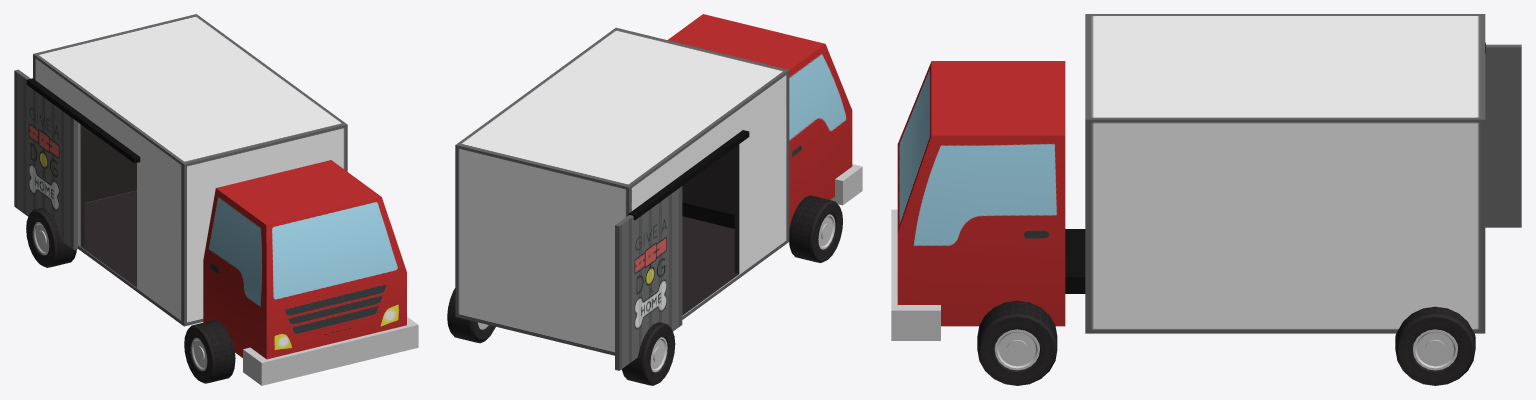
File: Truck-CloseDoor.fbx
The picture shows the model from 3 angles, left to right: view 1: azimuth 30°, elevation 25°; view 2: azimuth 150°, elevation 25°; view 3: azimuth 270°, elevation 25°; orthographic projection. The views are drawn at different scales.
Parts seen in each view (by area): view 1: pCube1, pCube4, pCube2, pCube6, pCylinder4, pCylinder8, pCube3, pCylinder3 (×2); view 2: pCube1, pCube4, pCube2, pCylinder4 (×2), pCylinder8, pCube3, pCylinder3 (×2), pCube6, pCube5; view 3: pCube1, pCube4, pCylinder4 (×2), pCube2, pCube6, pCylinder3, pCylinder7, pCube5.
Boxes of the visible parts, left/top/right/bottom form: pCube1: left=33, top=14, right=347, bottom=326; pCube4: left=203, top=160, right=406, bottom=359; pCube2: left=14, top=69, right=77, bottom=249; pCube6: left=243, top=316, right=418, bottom=385; pCylinder4: left=184, top=320, right=235, bottom=383; pCylinder8: left=26, top=208, right=76, bottom=267; pCube3: left=26, top=78, right=140, bottom=163; pCylinder3 (×2): left=33, top=222, right=207, bottom=370; pCube1: left=455, top=27, right=789, bottom=355; pCube4: left=667, top=14, right=852, bottom=228; pCube2: left=615, top=186, right=682, bottom=370; pCylinder4 (×2): left=447, top=195, right=842, bottom=343; pCylinder8: left=621, top=322, right=675, bottom=385; pCube3: left=628, top=130, right=749, bottom=220; pCylinder3 (×2): left=650, top=214, right=835, bottom=372; pCube6: left=830, top=164, right=862, bottom=205; pCube5: left=682, top=201, right=734, bottom=228; pCube1: left=1085, top=14, right=1485, bottom=333; pCube4: left=897, top=61, right=1065, bottom=326; pCylinder4 (×2): left=977, top=300, right=1475, bottom=385; pCube2: left=1485, top=44, right=1521, bottom=227; pCube6: left=891, top=209, right=940, bottom=340; pCylinder3: left=994, top=329, right=1039, bottom=370; pCylinder7: left=1413, top=329, right=1457, bottom=370; pCube5: left=1065, top=229, right=1085, bottom=293.
Bounding box in the file's own units: 7.13 × 7.15 × 15.74.
6 materials, 4 textured.
